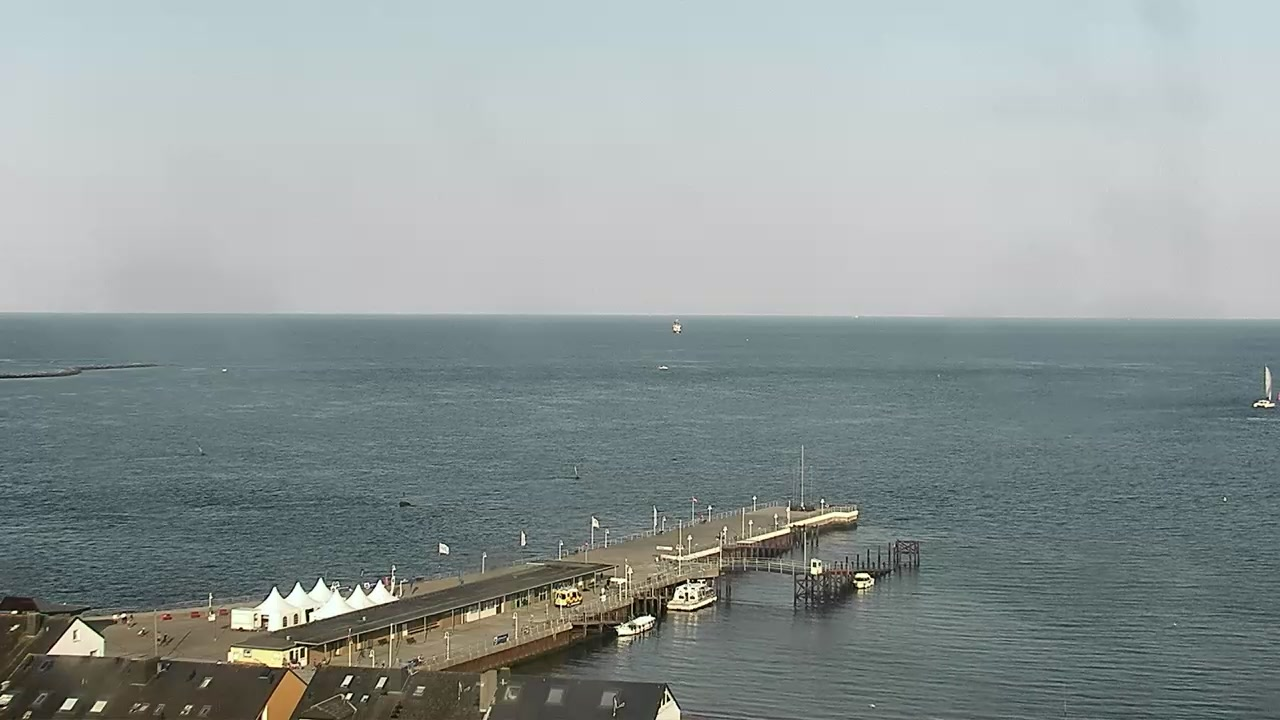human: (126, 614, 136, 629), (599, 592, 607, 603), (417, 653, 425, 664), (599, 585, 606, 595)
land: (552, 584, 584, 607)
sea: (666, 577, 718, 611), (1251, 363, 1276, 409), (611, 613, 656, 636), (851, 570, 875, 588), (671, 321, 684, 334), (656, 363, 670, 370), (668, 315, 681, 319)
